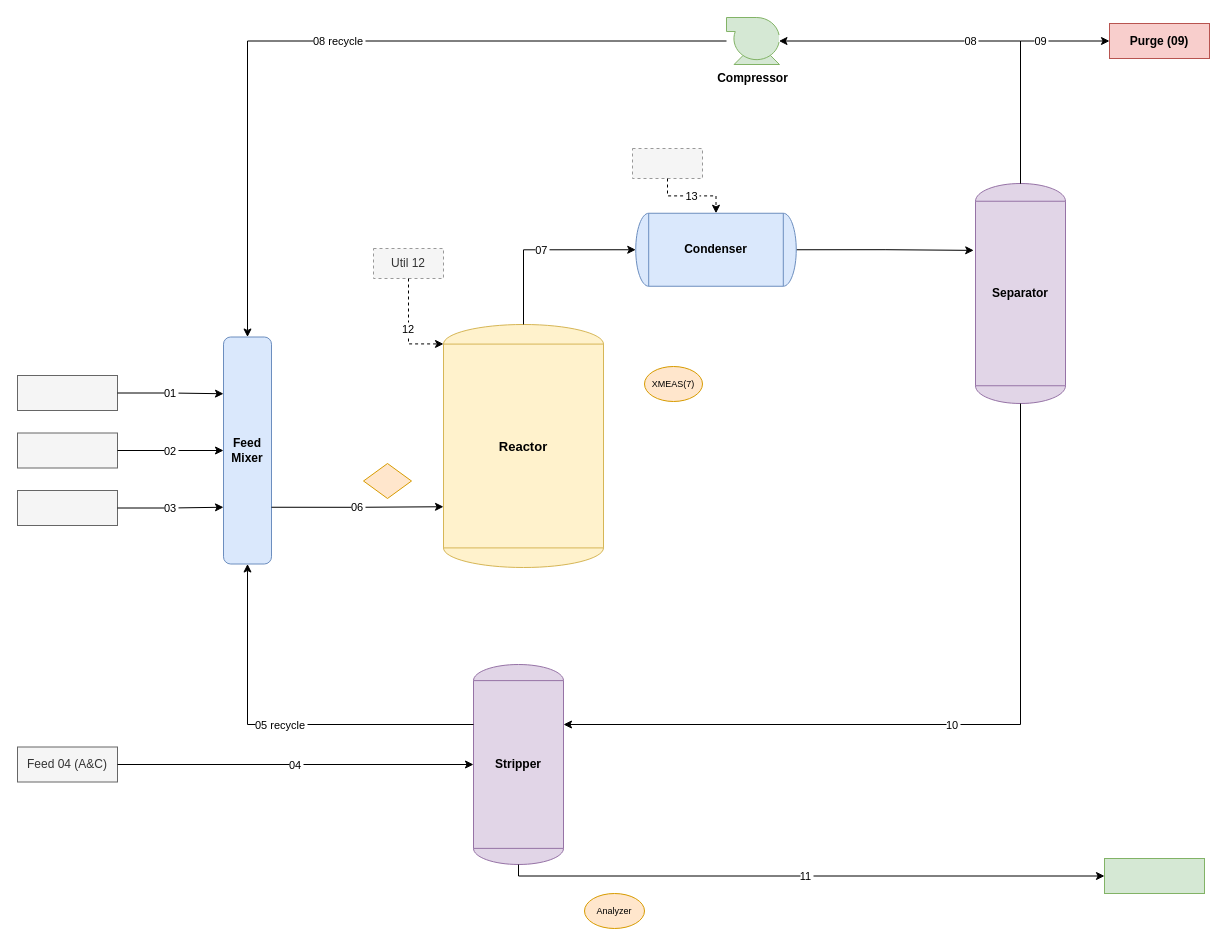
Some shapes in this 1227 by 946 pixel diagram are drawn without their labels. The centre of each missing label's shape, as x and y in pixels:
"Feed 01 (A)" belongs at [67,392].
"Feed 02 (D)" belongs at [67,450].
"Feed 03 (E)" belongs at [67,508].
"Product (11)" belongs at [1154,876].
"Util 13" belongs at [667,163].
"XMV(6)" belongs at [387,480].
